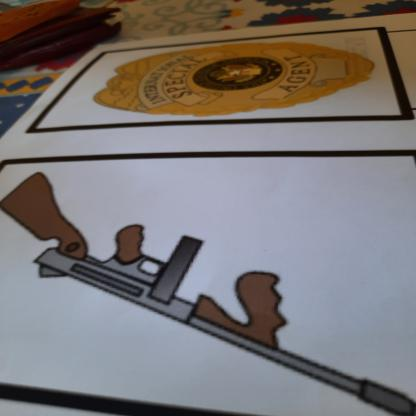Bootlegger: (1, 165, 416, 416)
G-man: (91, 32, 389, 125)
